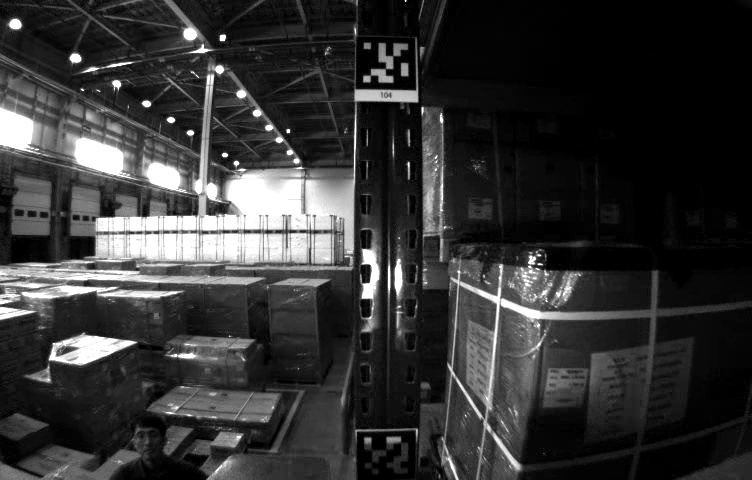True Barcode: (547, 367, 586, 407)
